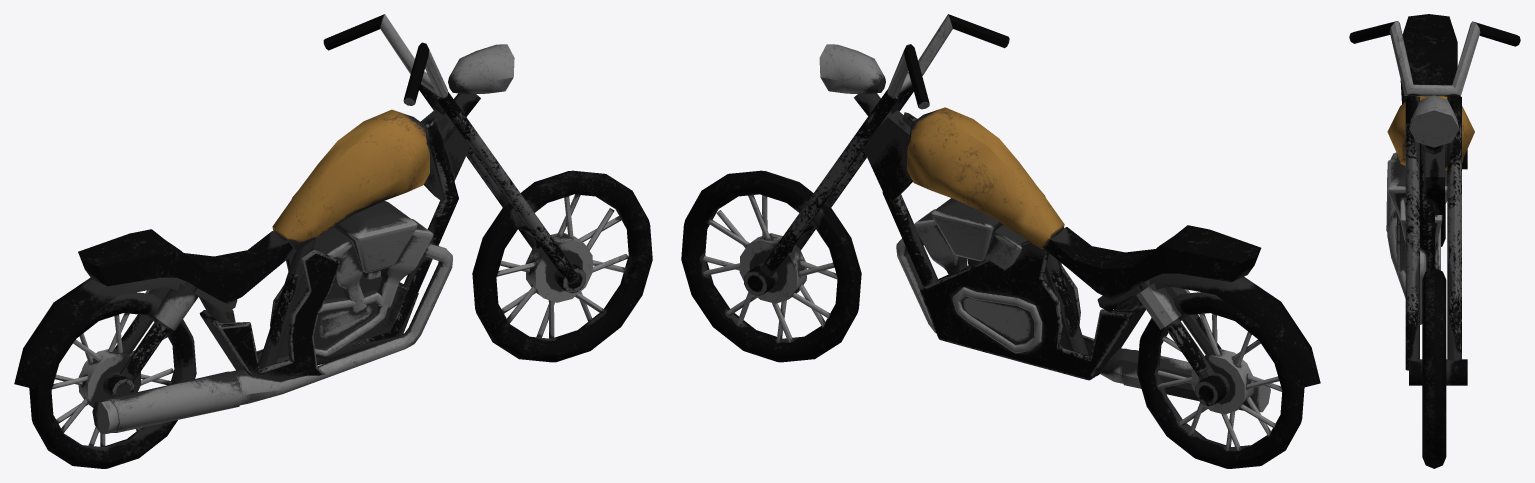
The model's file is motorcycle.glb.
3 views of the same model, side by side, from view 1: azimuth 30°, elevation 25°; view 2: azimuth 150°, elevation 25°; view 3: azimuth 270°, elevation 25° (orthographic).
Visible parts, largest first — view 1: Object_2; view 2: Object_2; view 3: Object_2.
Boxes of the visible parts, x1,y1,x2,y2 form: Object_2: [14, 14, 652, 468]; Object_2: [681, 14, 1320, 468]; Object_2: [1349, 14, 1520, 468].
Size of the model in its own units: 151 by 83.74 by 35.87.
1 material, 1 textured.
